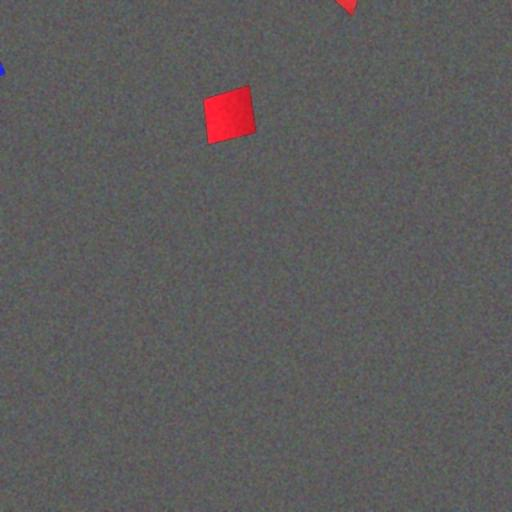RED_SQUARE: (202, 84, 257, 146)
